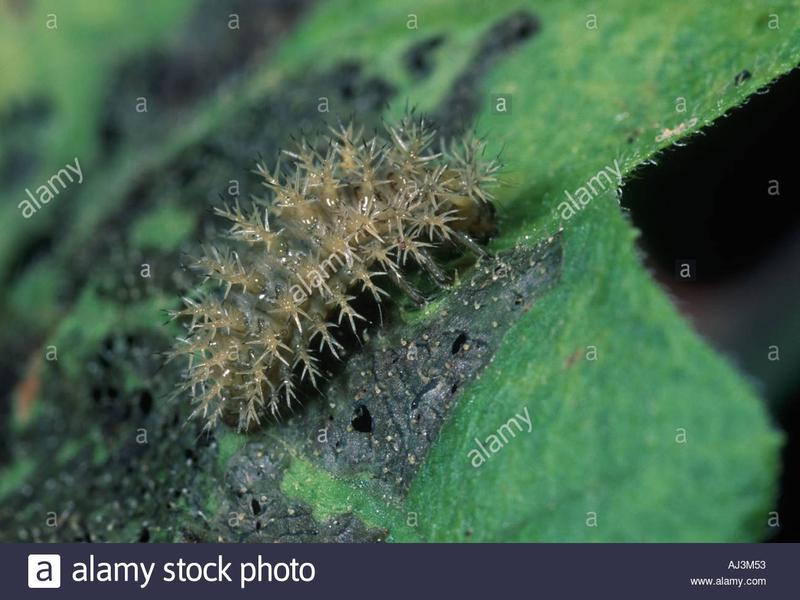Spiny_beetle: (152, 107, 501, 436)
